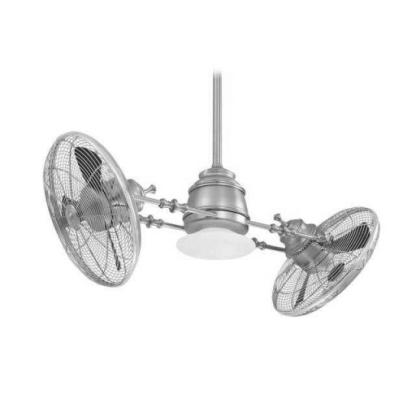ceiling-fan: (41, 67, 380, 315)
